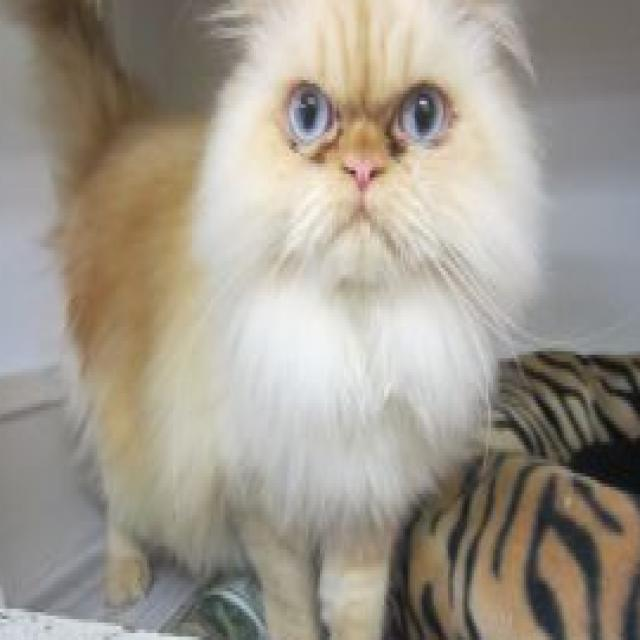Persian: (0, 0, 545, 640)
